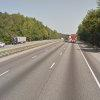Tree: (76, 12, 100, 47)
